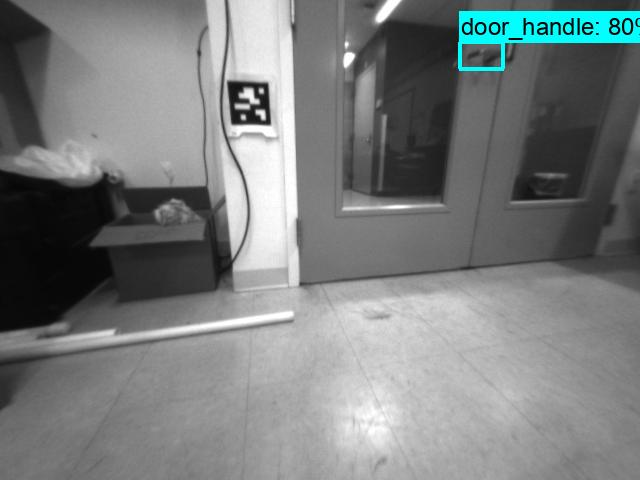door_handle: (461, 45, 503, 69)
